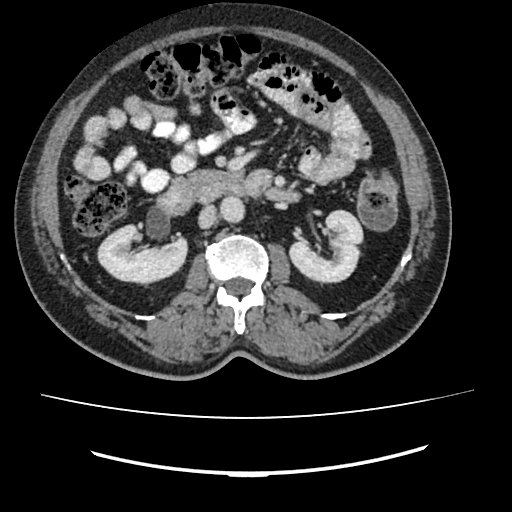aorta: (219, 196, 247, 223)
